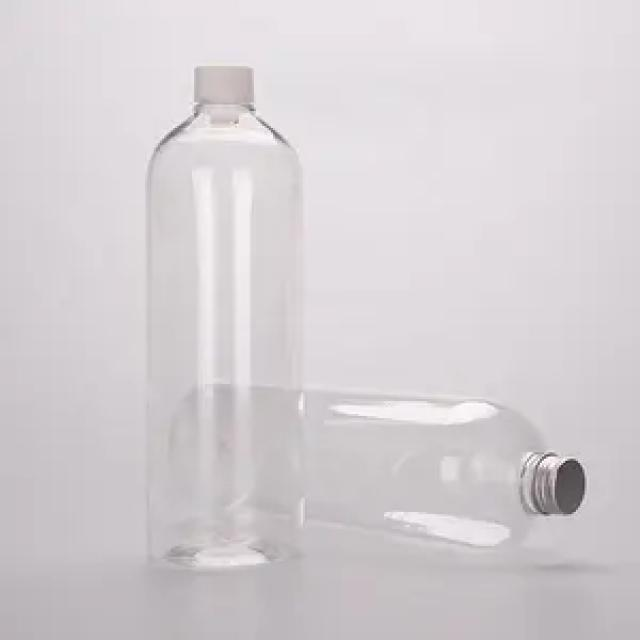bottom: (135, 509, 305, 577)
cap: (176, 53, 270, 126), (524, 439, 588, 519)
